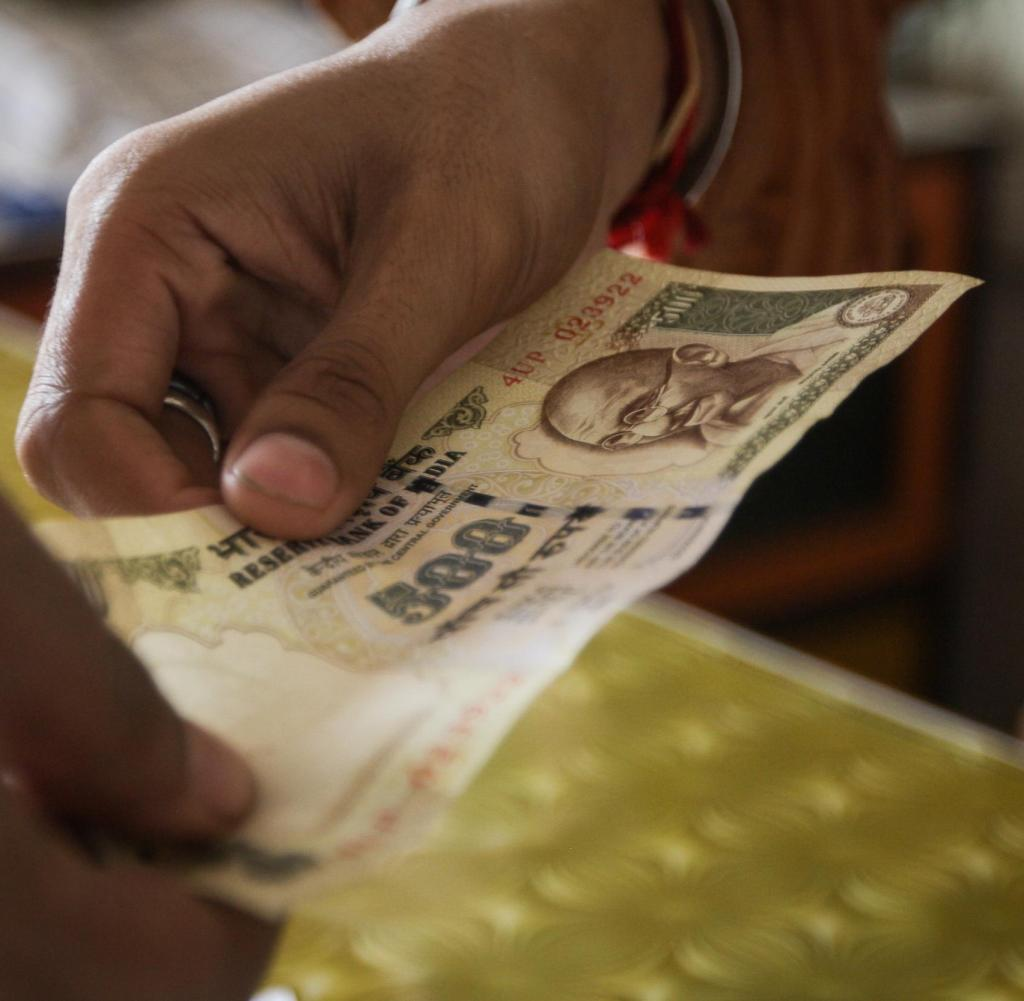billete: (9, 243, 997, 931)
